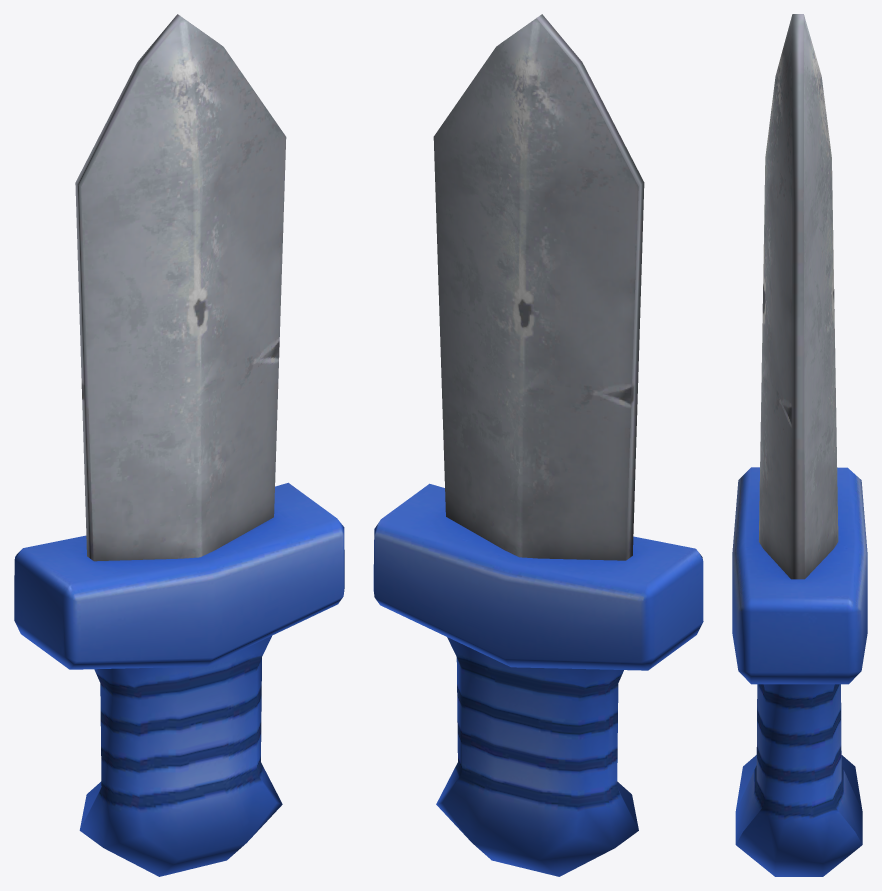
The model's file is 0-sword_blue.fbx.
3 renders of one model, left to right at view 1: azimuth 30°, elevation 25°; view 2: azimuth 150°, elevation 25°; view 3: azimuth 270°, elevation 25°, orthographic.
Visible parts, largest first — view 1: 0-sword_blue; view 2: 0-sword_blue; view 3: 0-sword_blue.
Boxes of the visible parts, x1,y1,x2,y2 form: 0-sword_blue: (14, 14, 344, 876); 0-sword_blue: (373, 14, 703, 876); 0-sword_blue: (732, 14, 867, 876).
Bounding box in the file's own units: 25.39 × 72.82 × 10.57.
